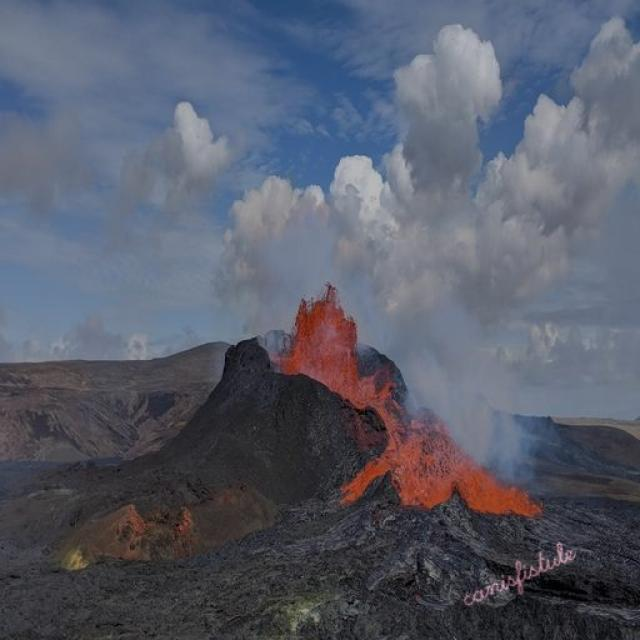watermark: (459, 533, 577, 610)
